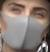with_mask: (2, 1, 50, 52)
